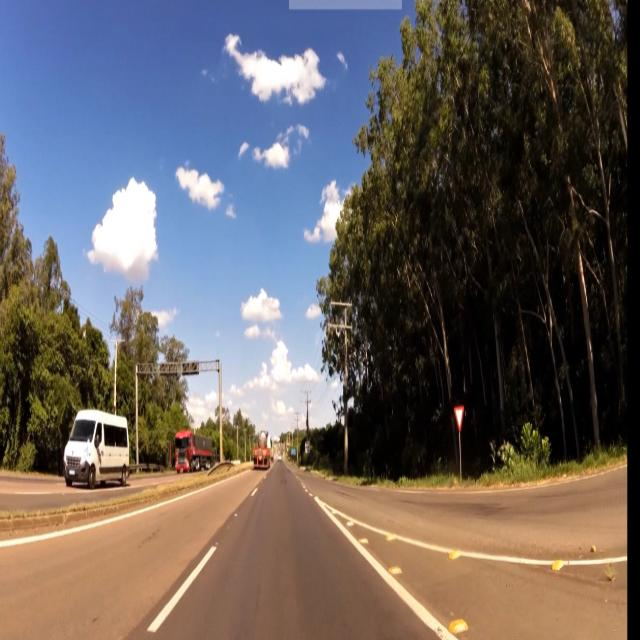R-2: (452, 404, 468, 432)
